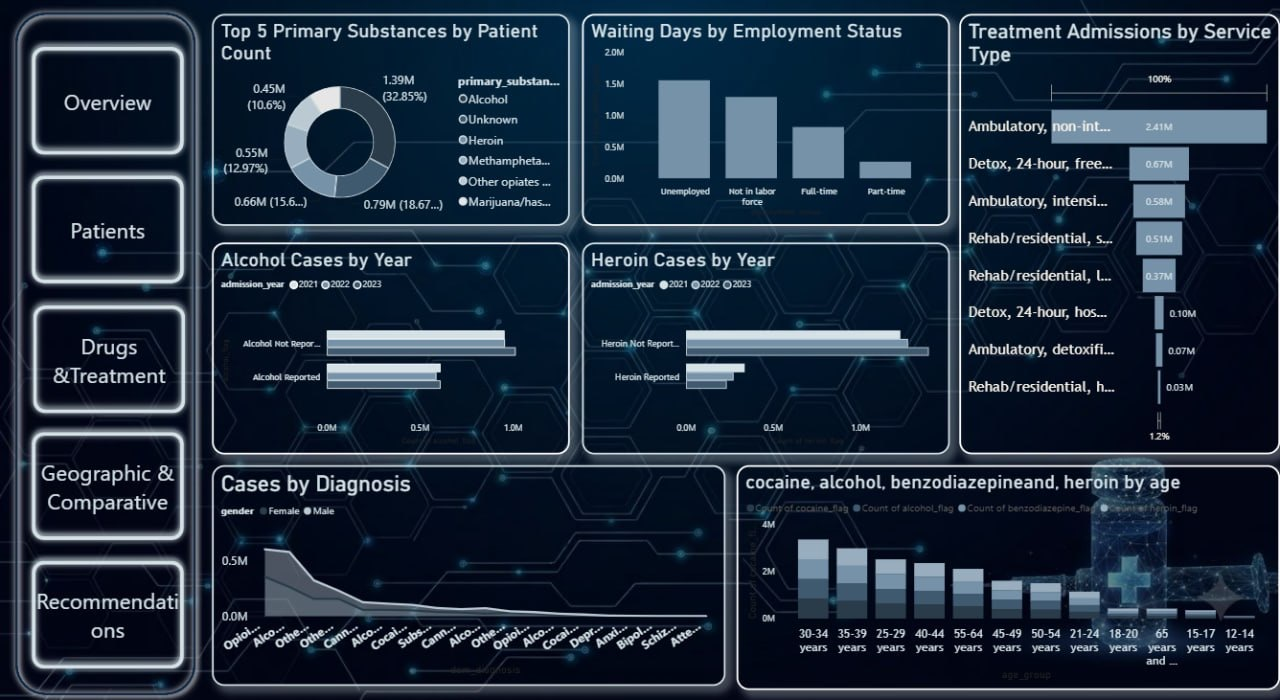

This screenshot's page, from the dashboard's own definition file:
{"tool":"powerbi","page":{"name":"Drugs &Treatment ","canvas":[1750,960],"ordinal":2},"visuals":[{"type":"shape","box":[18.1,11.5,264.3,948.9],"z":0},{"type":"pageNavigator","box":[40.8,58.7,225,867.4],"z":1000},{"type":"donutChart","title":"Top 5 Primary Substances by Patient Count","fields":{"Category":["teds_a_decoded_view.primary_substance"],"Y":["CountNonNull(teds_a_decoded_view.gender)"]},"box":[295.5,23,487.6,288.9],"z":2000},{"type":"areaChart","title":"Cases by Diagnosis","fields":{"Category":["teds_a_decoded_view.dsm_diagnosis"],"Series":["teds_a_decoded_view.gender"],"Y":["CountNonNull(teds_a_decoded_view.gender)"]},"box":[295.5,637,699.3,300.4],"z":3000},{"type":"clusteredBarChart","title":"Alcohol Cases by  Year","fields":{"Category":["teds_a_decoded_view.alcohol_flag"],"Y":["CountNonNull(teds_a_decoded_view.alcohol_flag)"],"Series":["teds_a_decoded_view.admission_year"]},"box":[295.5,334.9,487.6,288.9],"z":4000},{"type":"clusteredBarChart","title":"Heroin Cases by Year","fields":{"Category":["teds_a_decoded_view.heroin_flag"],"Y":["CountNonNull(teds_a_decoded_view.heroin_flag)"],"Series":["teds_a_decoded_view.admission_year"]},"box":[799.5,334.9,500.7,288.9],"z":5000},{"type":"lineStackedColumnComboChart","title":"Waiting Days by Employment Status","fields":{"Y":["CountNonNull(teds_a_decoded_view.days_waiting_group)"],"Category":["teds_a_decoded_view.employment_status"]},"box":[799.5,23,500.7,288.9],"z":6000},{"type":"funnel","title":"Treatment Admissions by Service Type","fields":{"Category":["teds_a_decoded_view.service_setting"],"Y":["CountNonNull(teds_a_decoded_view.gender)"]},"box":[1312.5,22.8,437,600],"z":6001},{"type":"columnChart","title":"cocaine, alcohol, benzodiazepineand, heroin by age","fields":{"Category":["teds_a_decoded_view.age_group"],"Y":["CountNonNull(teds_a_decoded_view.cocaine_flag)","CountNonNull(teds_a_decoded_view.alcohol_flag)","CountNonNull(teds_a_decoded_view.benzodiazepine_flag)","CountNonNull(teds_a_decoded_view.heroin_flag)"]},"box":[1009.2,637.5,740.2,306.5],"z":6003}]}

Visuals, with their boxes in screenshot pixels (x1, y1, x2, y2):
shape: [left=16, top=8, right=206, bottom=691]
pageNavigator: [left=33, top=42, right=194, bottom=666]
"Top 5 Primary Substances by Patient Count" donutChart: [left=216, top=17, right=566, bottom=224]
"Cases by Diagnosis" areaChart: [left=216, top=458, right=719, bottom=674]
"Alcohol Cases by  Year" clusteredBarChart: [left=216, top=241, right=566, bottom=449]
"Heroin Cases by Year" clusteredBarChart: [left=578, top=241, right=938, bottom=449]
"Waiting Days by Employment Status" lineStackedColumnComboChart: [left=578, top=17, right=938, bottom=224]
"Treatment Admissions by Service Type" funnel: [left=947, top=16, right=1261, bottom=448]
"cocaine, alcohol, benzodiazepineand, heroin by age" columnChart: [left=729, top=458, right=1261, bottom=679]
